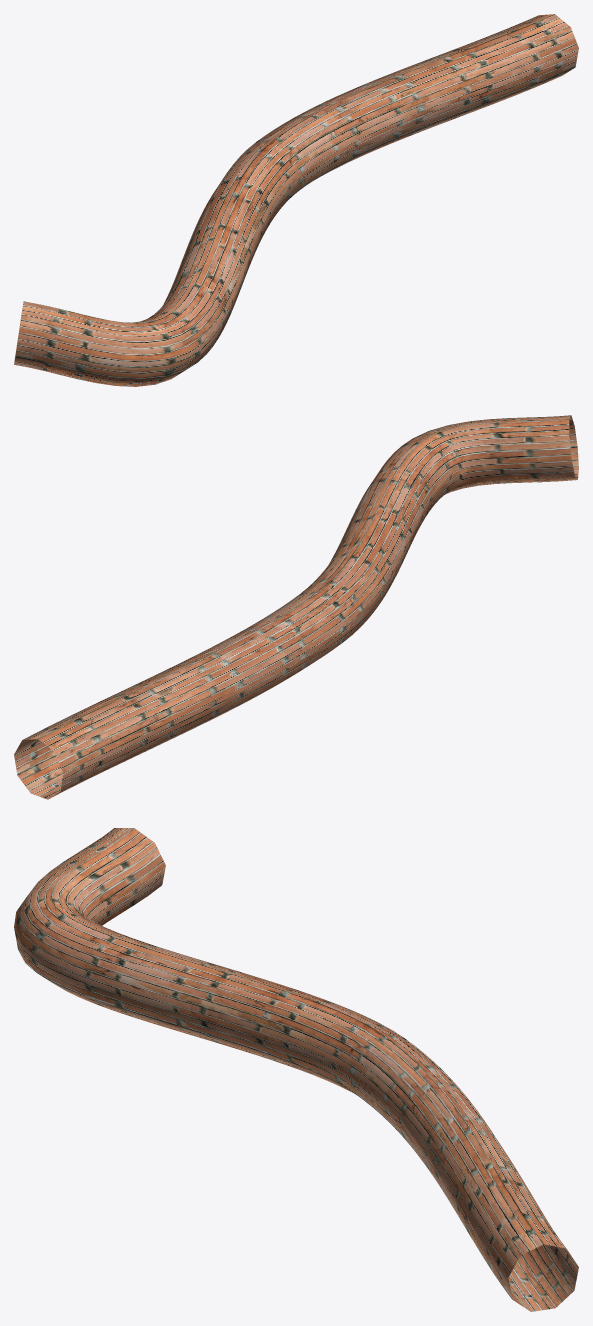
3 views of the same model, one above another, from view 1: azimuth 30°, elevation 25°; view 2: azimuth 210°, elevation 25°; view 3: azimuth 270°, elevation 25° (orthographic). The views are drawn at different scales.
Visible parts, largest first — view 1: Tube; view 2: Tube; view 3: Tube.
Boxes of the visible parts, x1,y1,x2,y2 form: Tube: (14,14,578,386); Tube: (14,415,578,799); Tube: (14,828,578,1311).
Size of the model in its own units: 27.87 by 2.72 by 16.08.
1 material, 1 textured.
